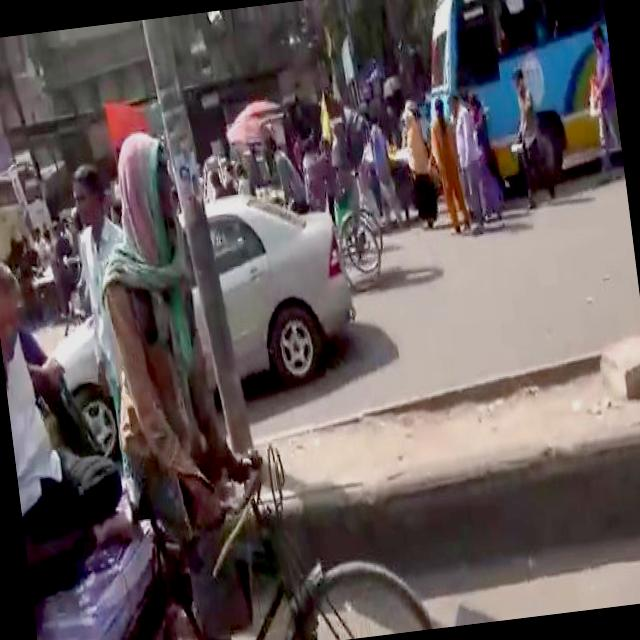bus: (409, 0, 625, 203), (6, 152, 57, 238), (0, 167, 29, 261)
car: (16, 173, 368, 468)
motorcycle: (0, 197, 437, 640), (248, 86, 392, 310)
